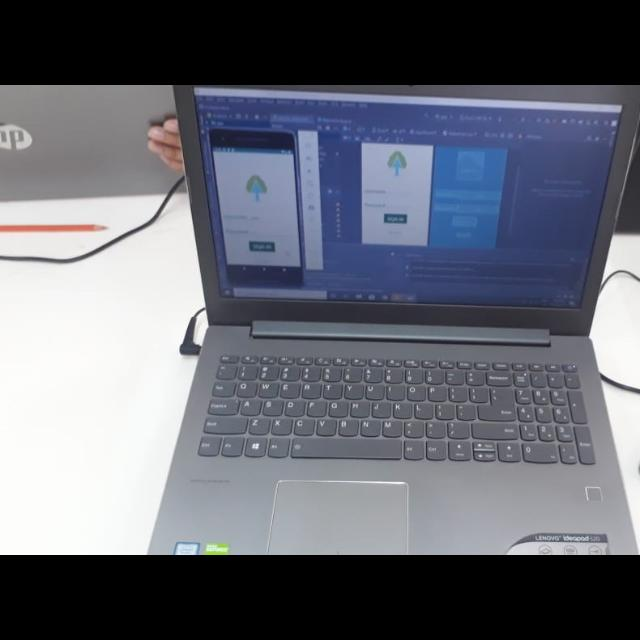Laptop: (140, 89, 640, 556)
